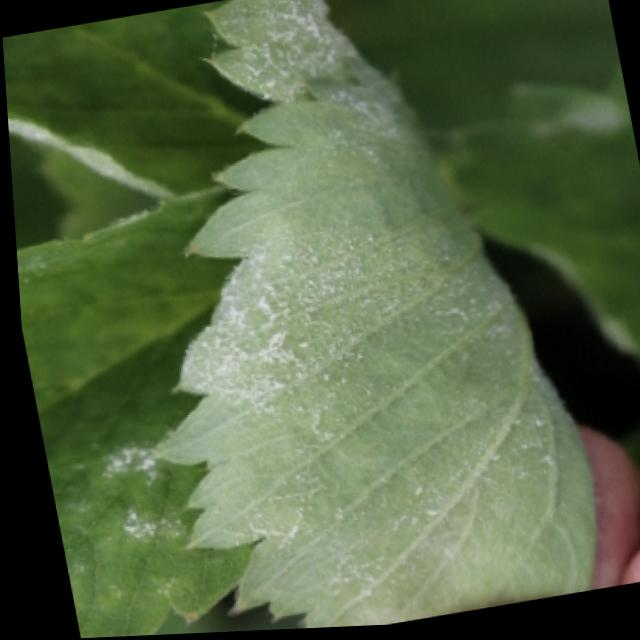Powdery Mildew Leaf: (144, 100, 591, 631), (13, 189, 246, 639), (2, 0, 410, 203)
